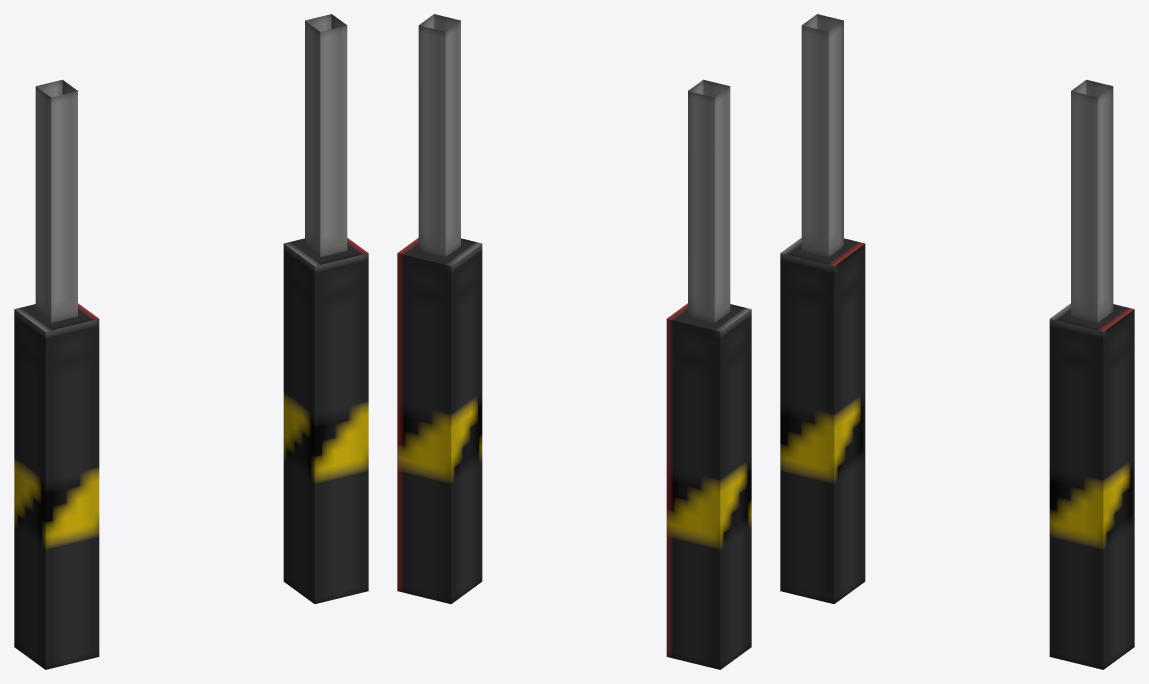
File: v2_pivot.obj
The picture shows the model from 3 angles, left to right: view 1: azimuth 30°, elevation 25°; view 2: azimuth 150°, elevation 25°; view 3: azimuth 330°, elevation 25°; orthographic projection.
Parts seen in each view (by area): view 1: v2_pivot; view 2: v2_pivot; view 3: v2_pivot.
Boxes of the visible parts, x1,y1,x2,y2 form: v2_pivot: (14, 14, 368, 669); v2_pivot: (397, 14, 751, 669); v2_pivot: (780, 14, 1134, 669).
Size of the model in its own units: 1.5 by 2.5 by 0.25.
